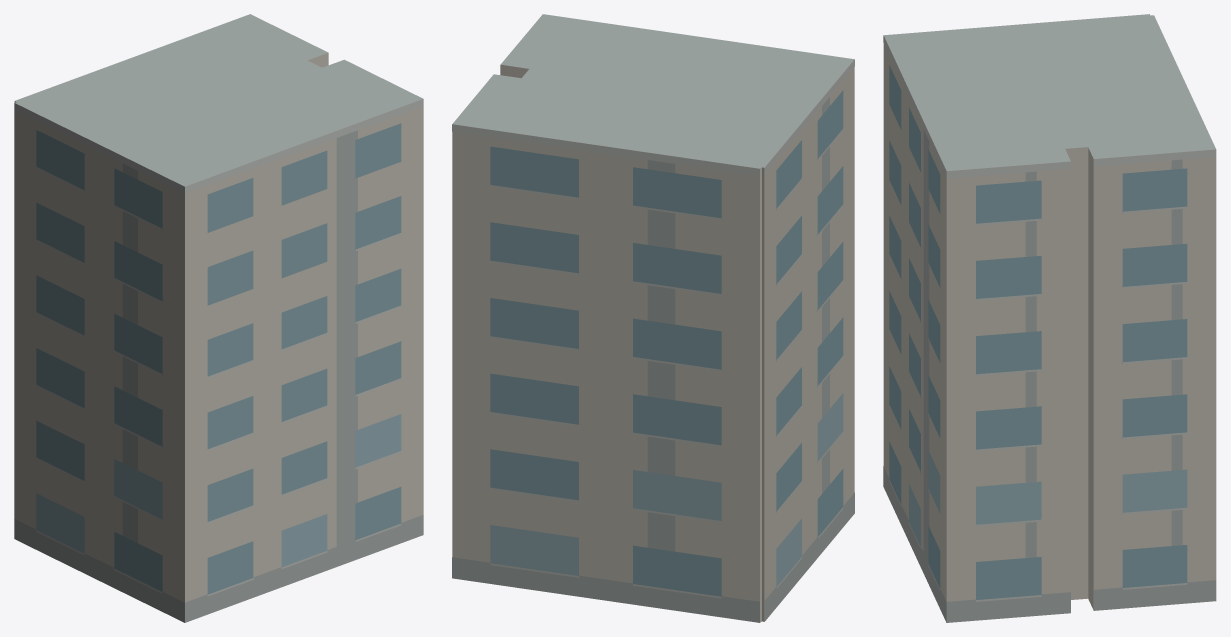
Rendered from survey-upis-32568242.glb.
The picture shows the model from 3 angles, left to right: view 1: azimuth 30°, elevation 25°; view 2: azimuth 150°, elevation 25°; view 3: azimuth 270°, elevation 25°; orthographic projection. The views are drawn at different scales.
Parts seen in each view (by area): view 1: survey-upis-32568242.tmp; view 2: survey-upis-32568242.tmp; view 3: survey-upis-32568242.tmp.
Boxes of the visible parts, box(x1,y1,x2,y2) form: survey-upis-32568242.tmp: box(14, 14, 423, 622); survey-upis-32568242.tmp: box(452, 14, 854, 622); survey-upis-32568242.tmp: box(883, 14, 1216, 622).
Bounding box in the file's own units: 11.09 × 14.85 × 9.92.
